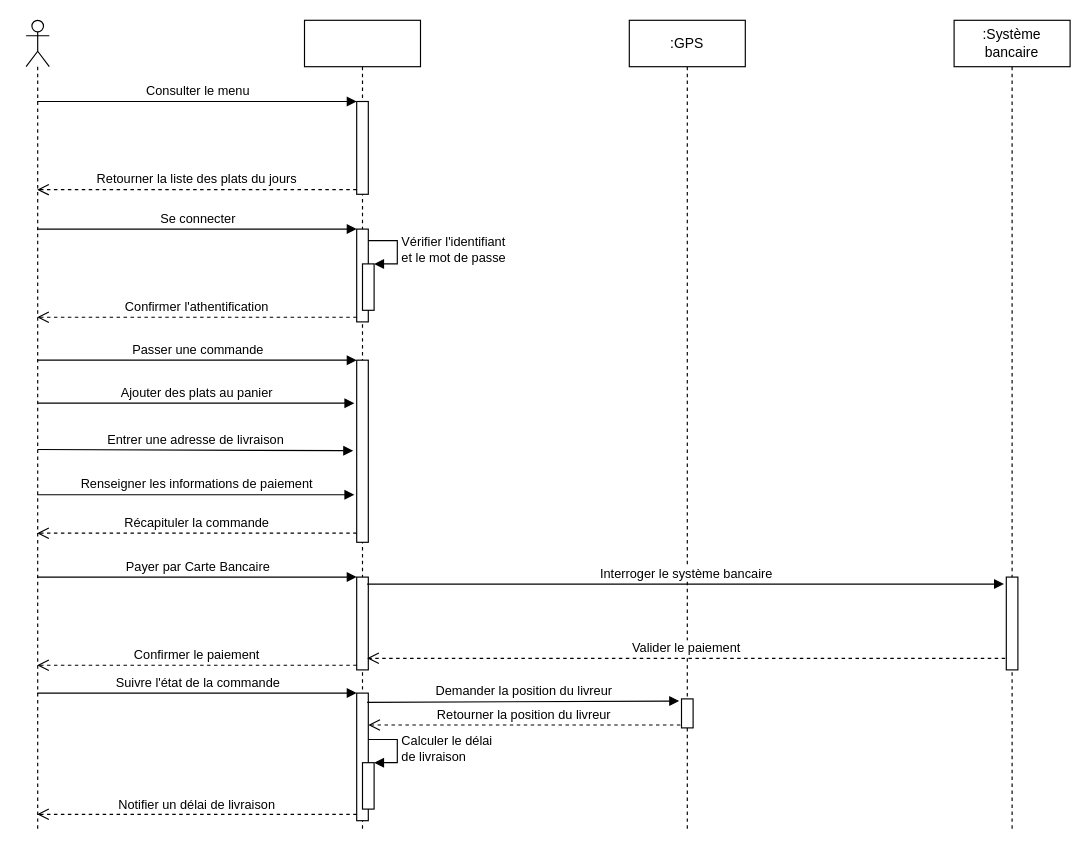
Some shapes in this 1090 by 853 pixel diagram are drawn without their labels. Here are the shapes that lost their labels. From the top down, the box of each, then its label:
(25, 19, 49, 832): Client
(303, 19, 420, 832): :Application ExpressFood
